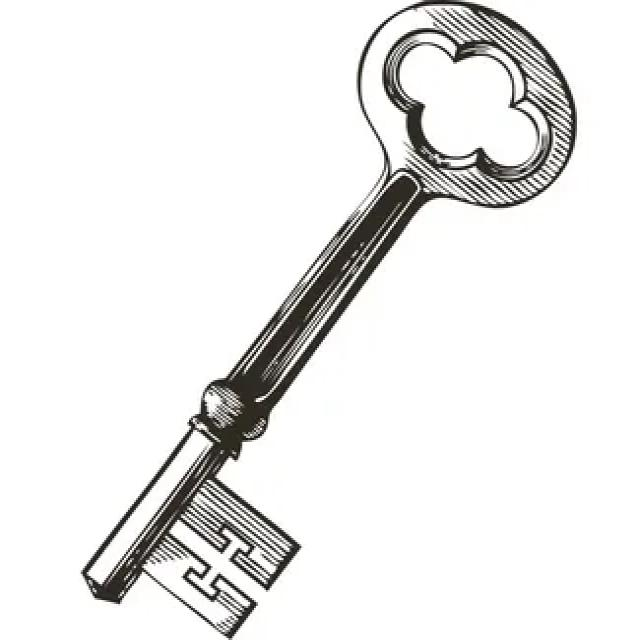key: (69, 0, 592, 640)
